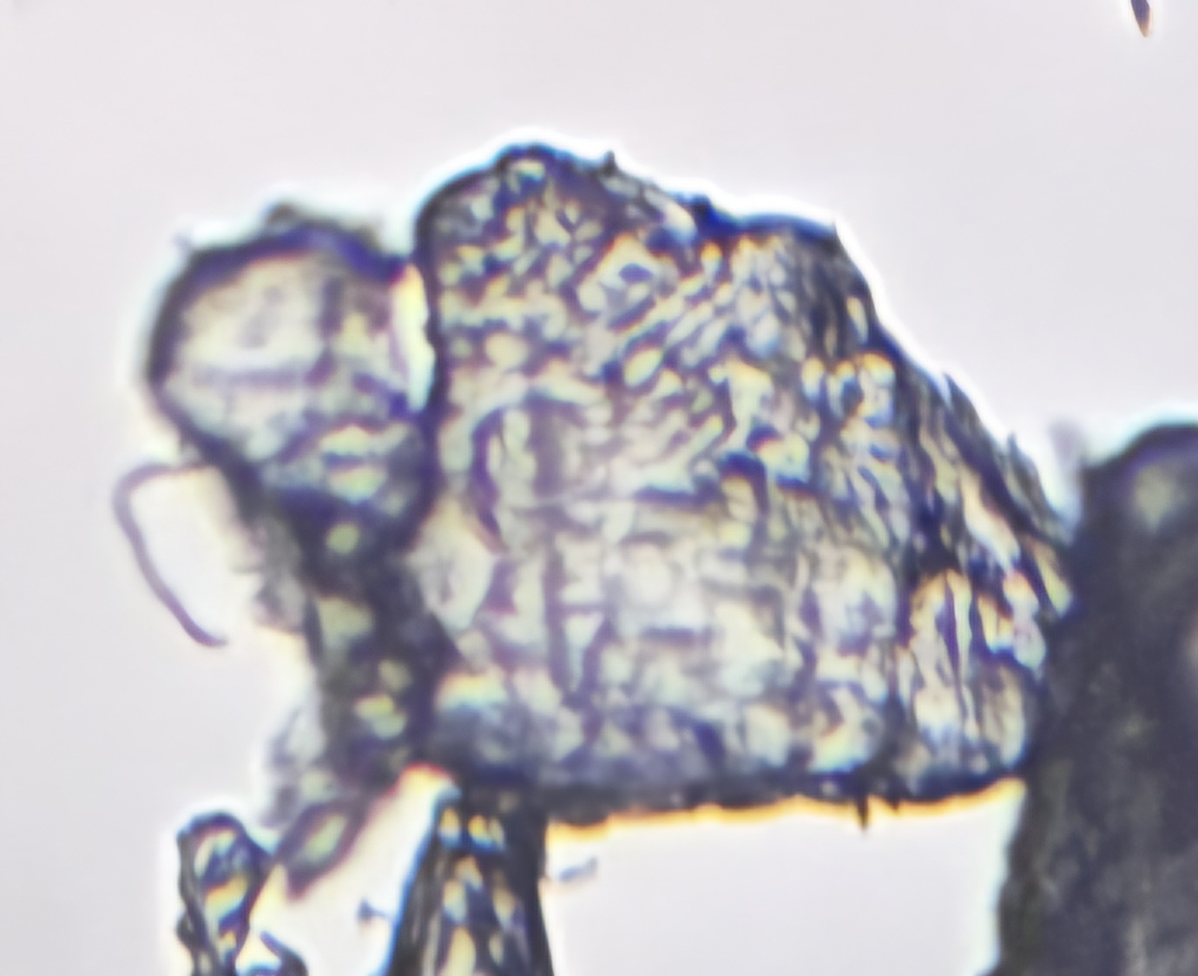microplastic: (106, 140, 1063, 813), (971, 421, 1198, 976), (378, 794, 556, 976), (177, 812, 305, 976)
